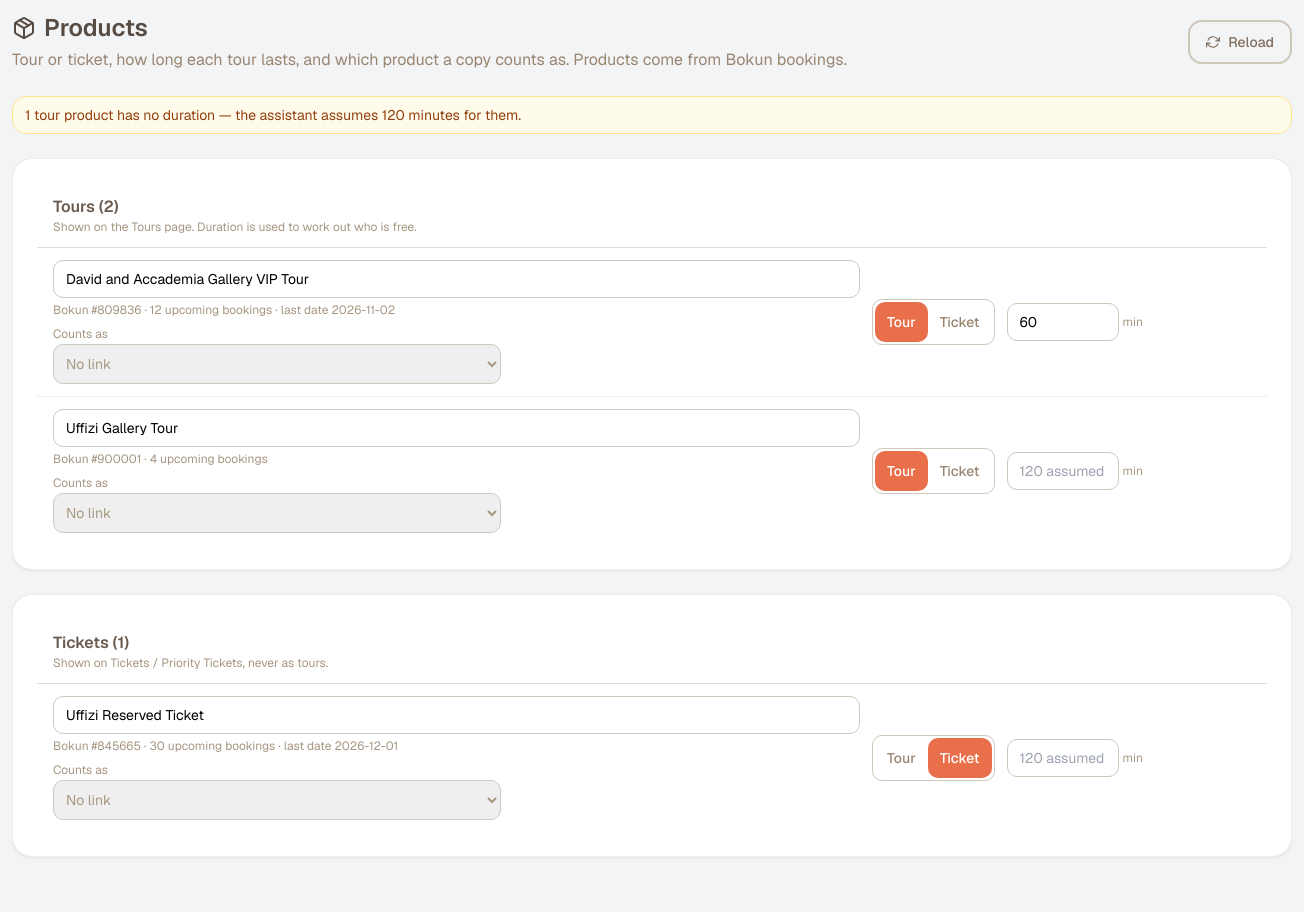
Products page (step 7.2b) › moving a product to Tickets asks first, then saves the type
Click the button "Ticket" in the row of "900001".
click(960, 471)  # box [928,451,992,491]
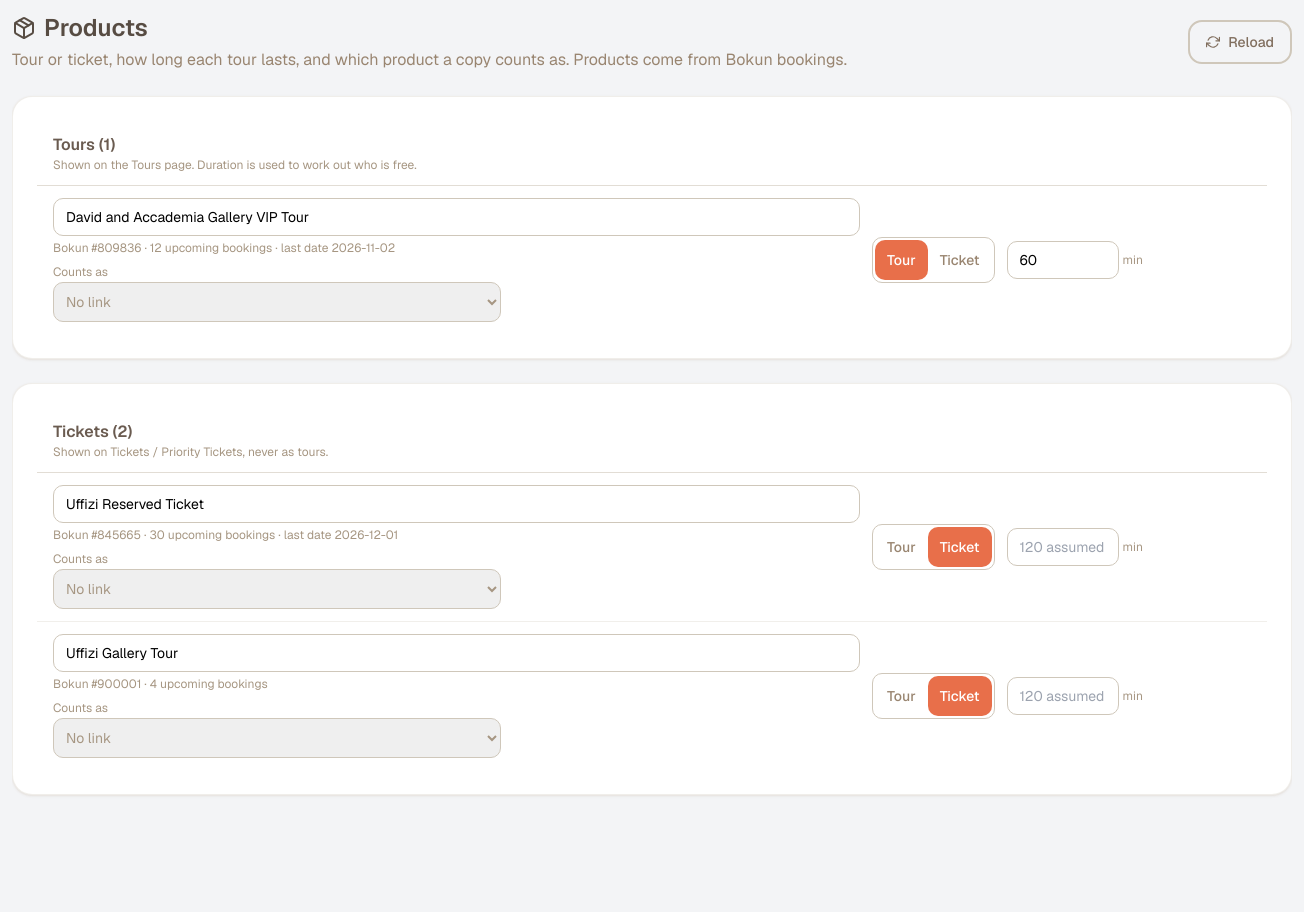
Check: the heading "Tickets (2)" is shown, box [53,421,132,442]
